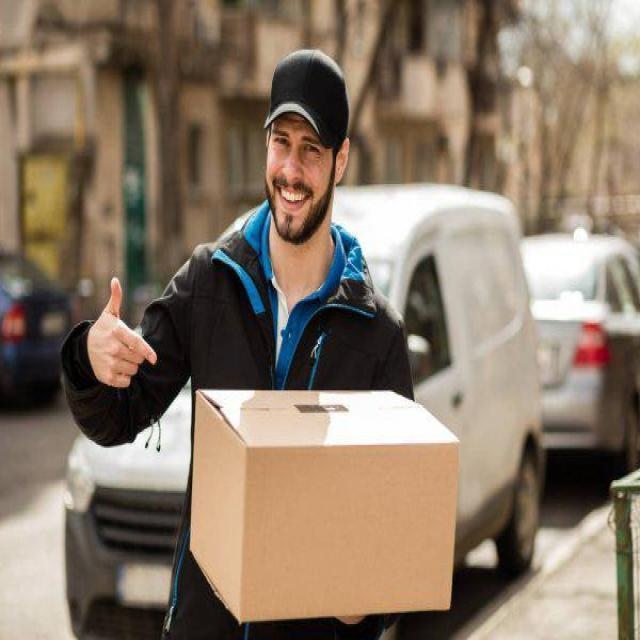box: (183, 367, 462, 627)
